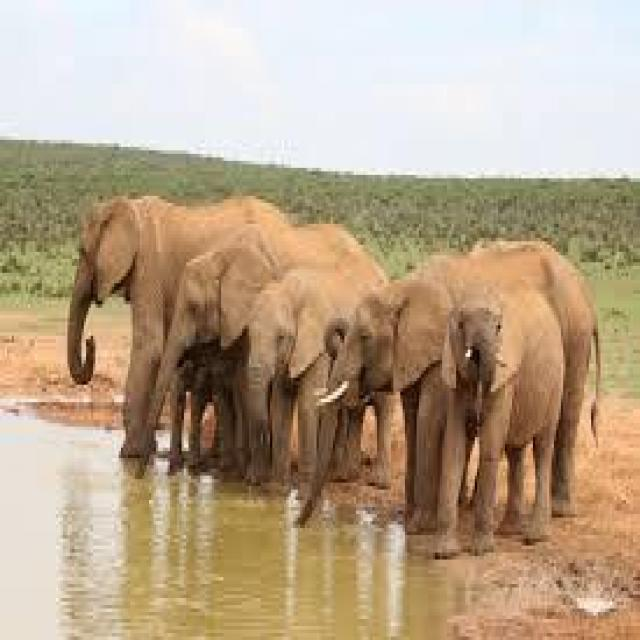Elephant: (65, 189, 396, 493), (305, 238, 591, 524), (135, 227, 382, 472), (447, 287, 554, 549)
